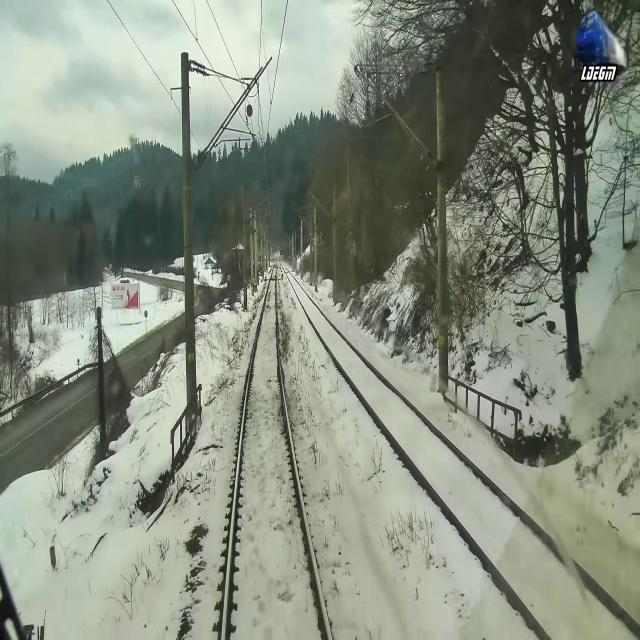rail-track: (283, 264, 640, 639), (225, 277, 327, 639)
